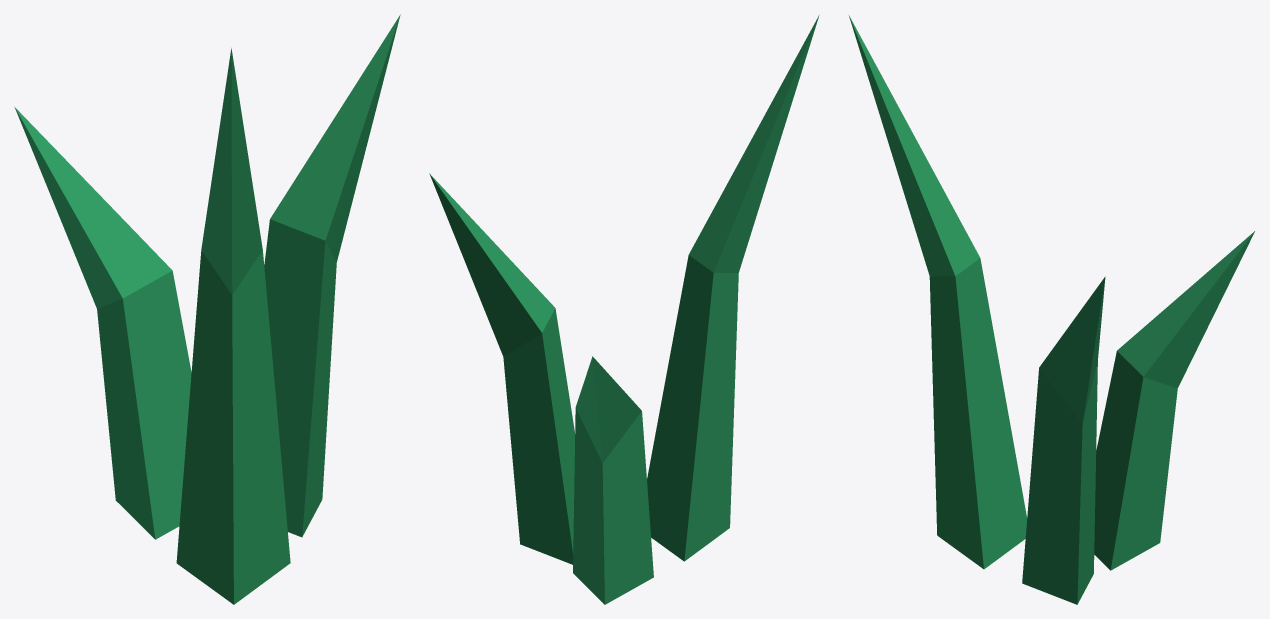
The model's file is gras_04.fbx.
3 renders of one model, left to right at view 1: azimuth 30°, elevation 25°; view 2: azimuth 150°, elevation 25°; view 3: azimuth 270°, elevation 25°, orthographic. The views are drawn at different scales.
Visible parts, largest first — view 1: Circle.015; view 2: Circle.015; view 3: Circle.015.
Boxes of the visible parts, x1,y1,x2,y2 form: Circle.015: [14, 14, 400, 604]; Circle.015: [429, 15, 819, 604]; Circle.015: [849, 15, 1254, 604].
Size of the model in its own units: 0.2237 by 0.3998 by 0.2957.
